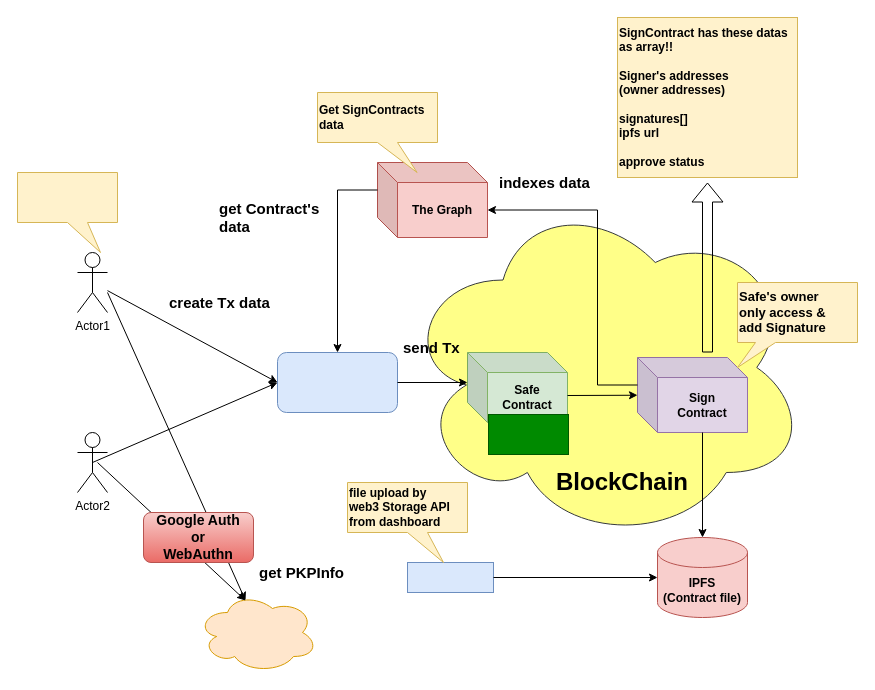
This 875x690 diagram has some shape labels left out. The box of each missing label's shape, as (x1, y1, x2, y2) in pixels:
AA Core Kit Relay Kit: (488, 414, 568, 454)
frontend: (276, 352, 398, 412)
Gasless & AA: (16, 172, 118, 252)
LitProtocol MPC: (196, 592, 318, 672)
Web3Stoage: (406, 562, 494, 592)
